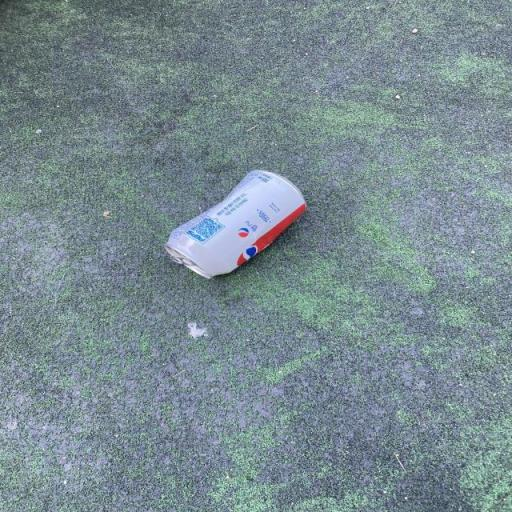metal: (166, 143, 319, 319)
